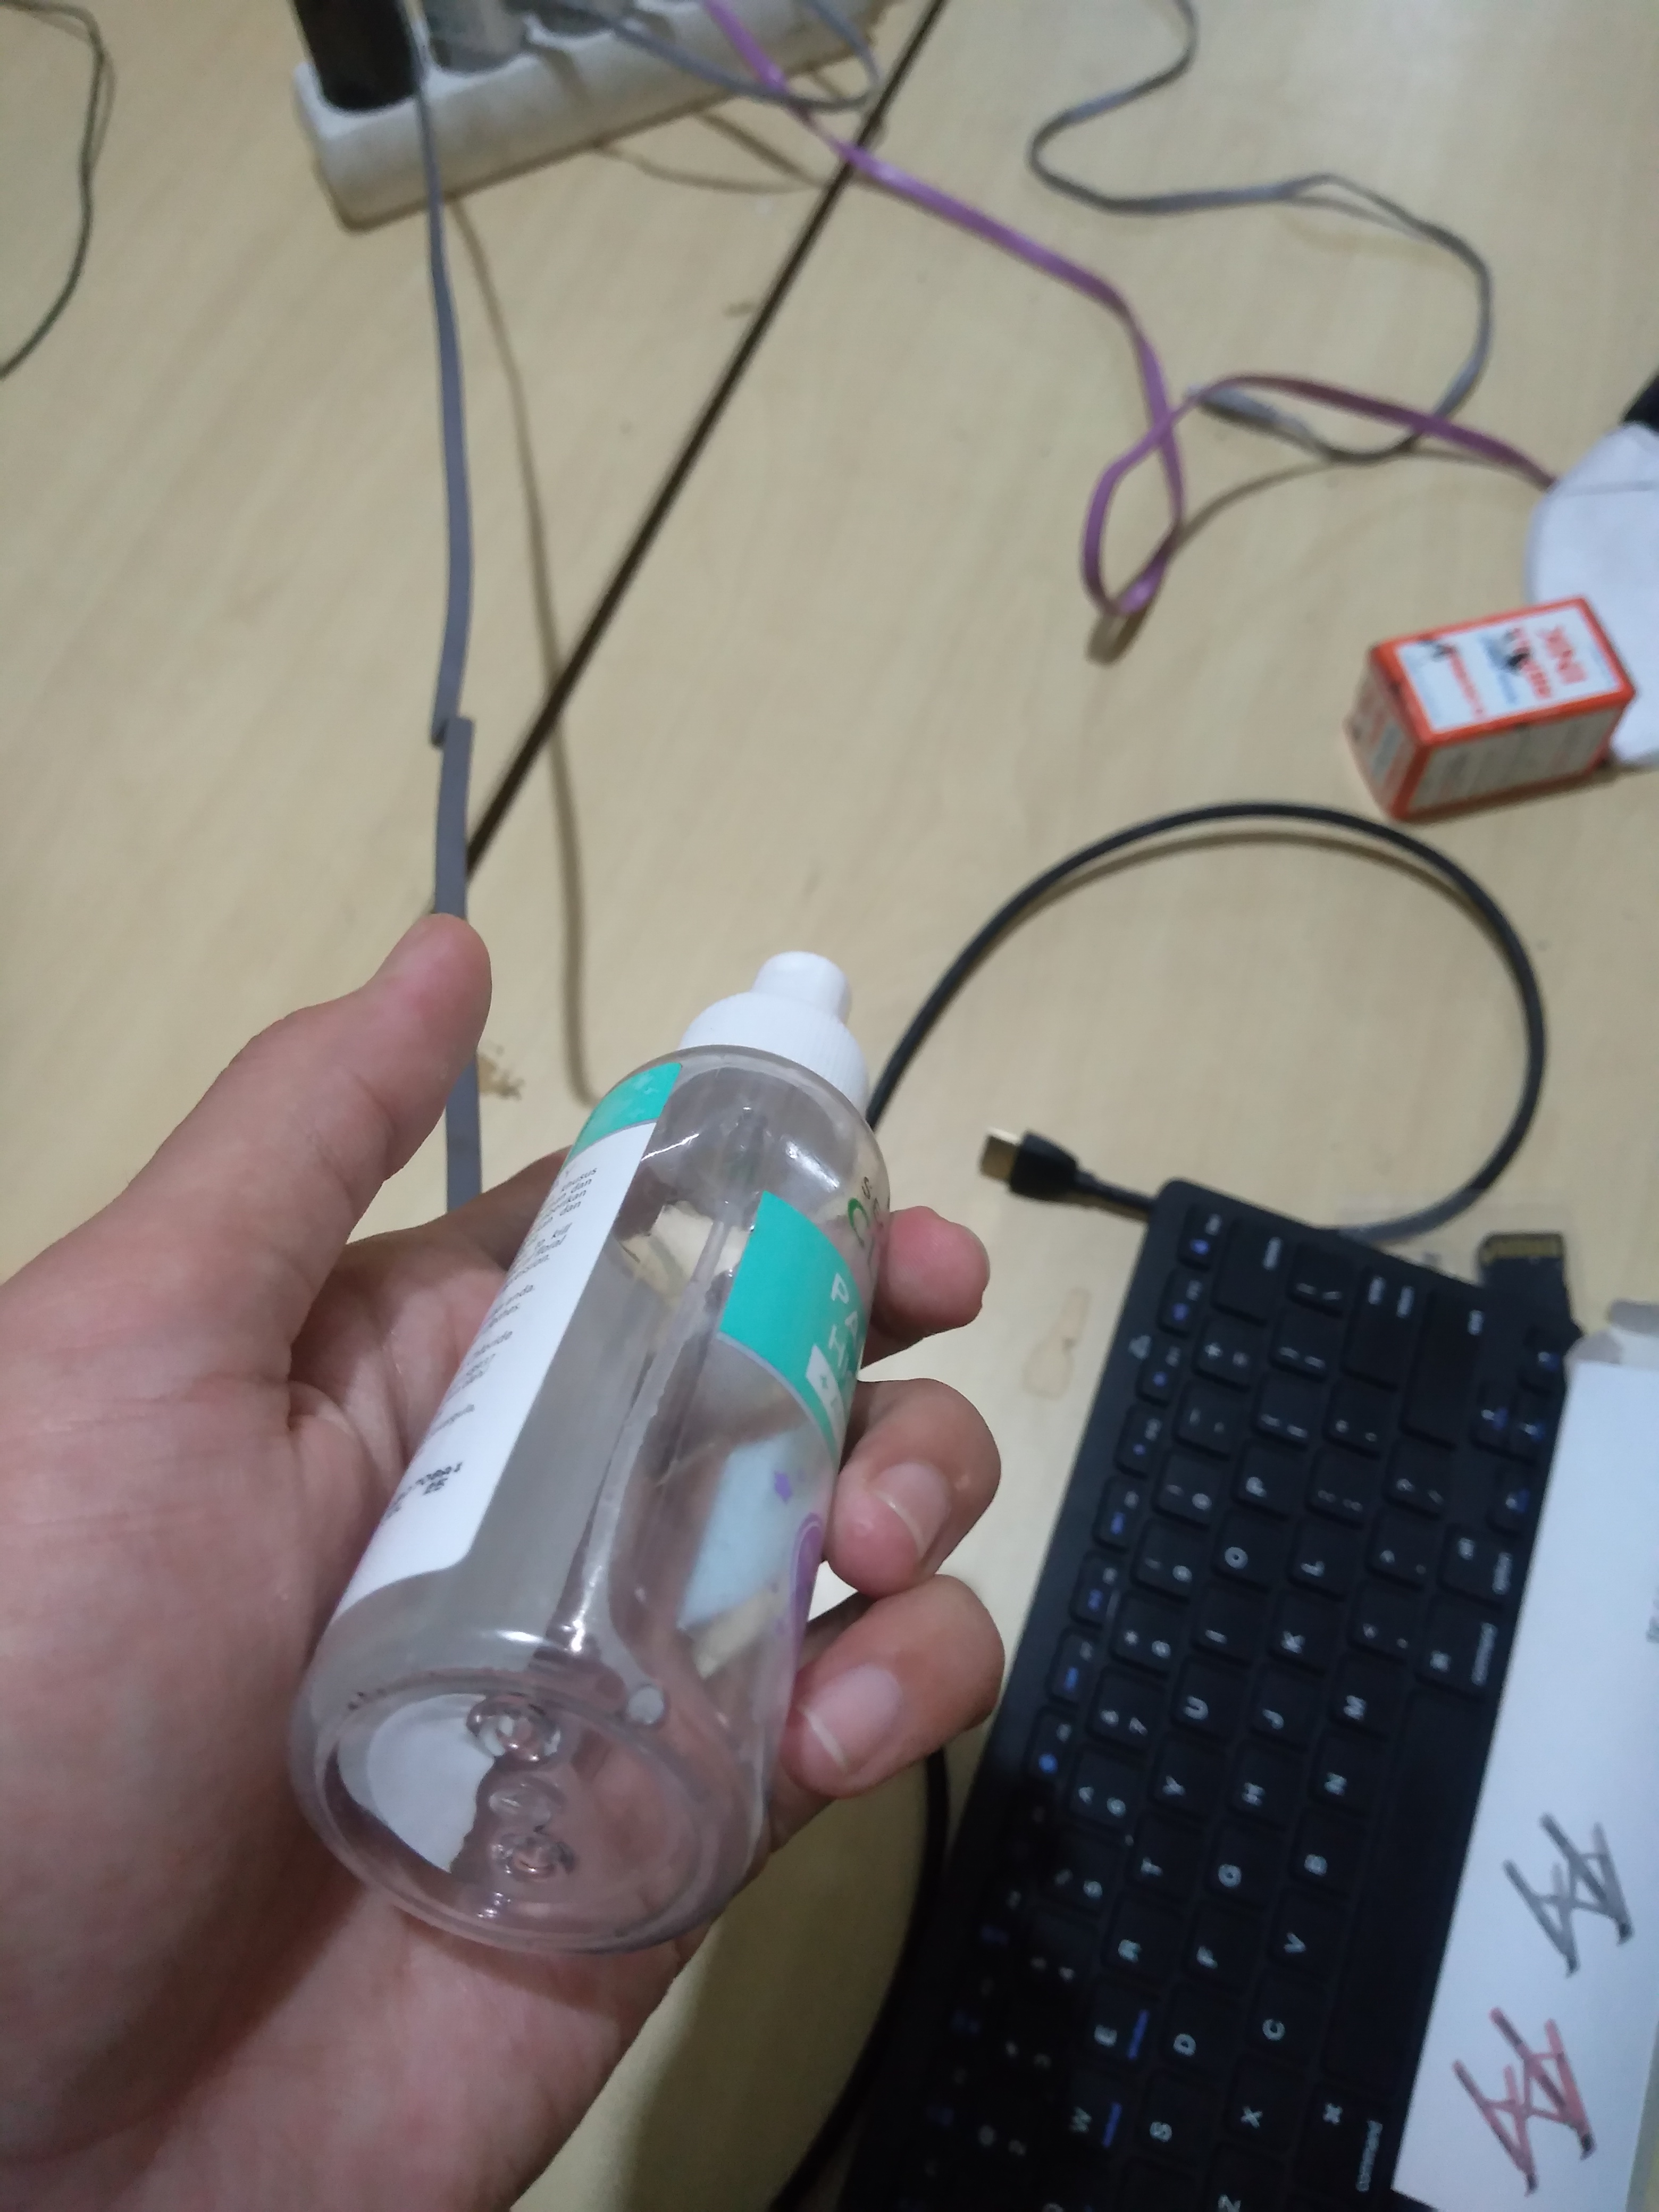hand sanitizer: (240, 892, 976, 1991)
